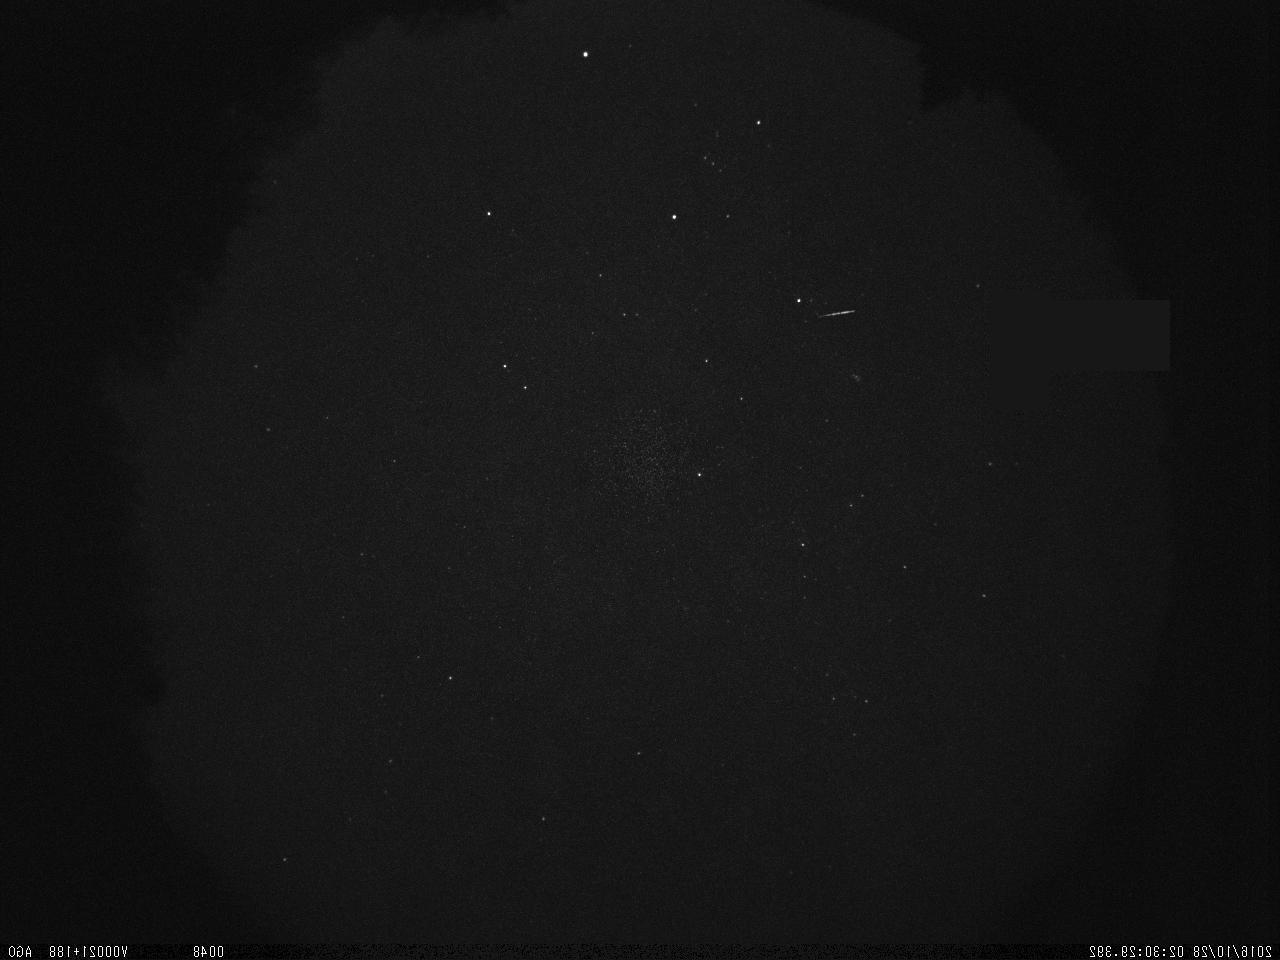meteor: (807, 289, 866, 335)
